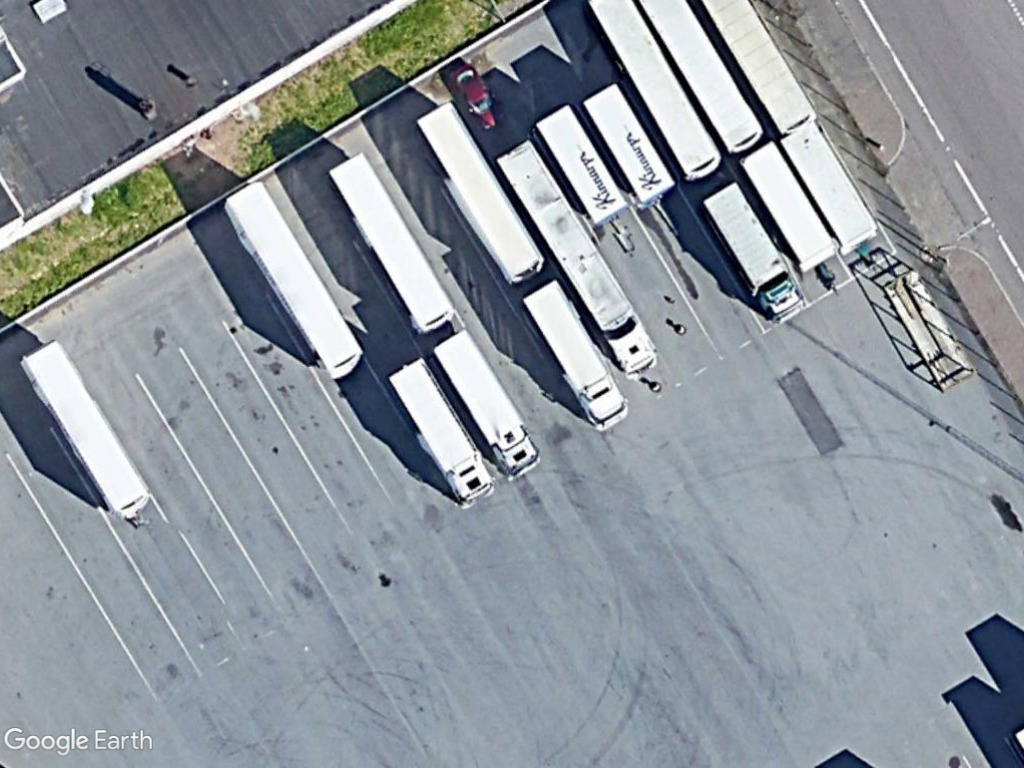car: (447, 62, 510, 132)
longvehicle: (496, 141, 665, 383)
truck: (517, 277, 632, 434), (393, 355, 505, 513), (694, 179, 811, 329), (434, 329, 543, 482)
